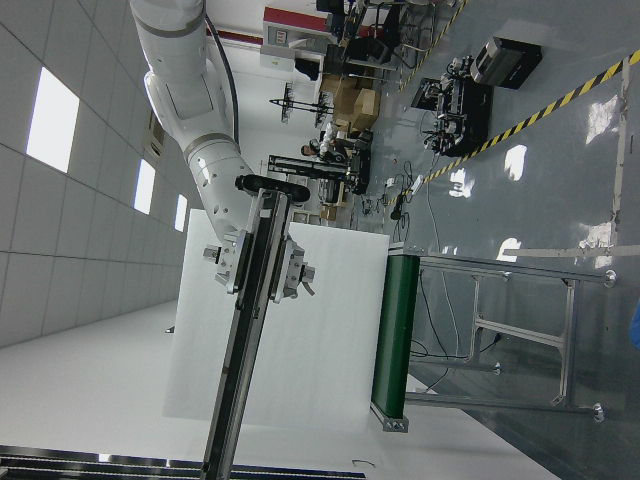left: (201, 186, 291, 477)
